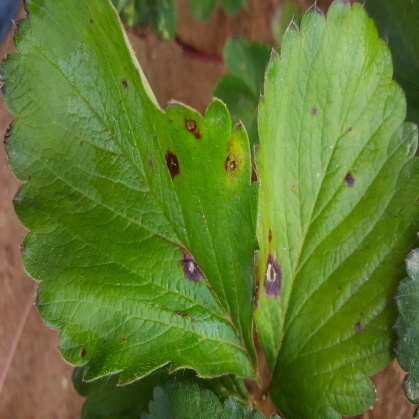Leaf_Spot: (0, 0, 271, 418), (158, 32, 418, 418)
